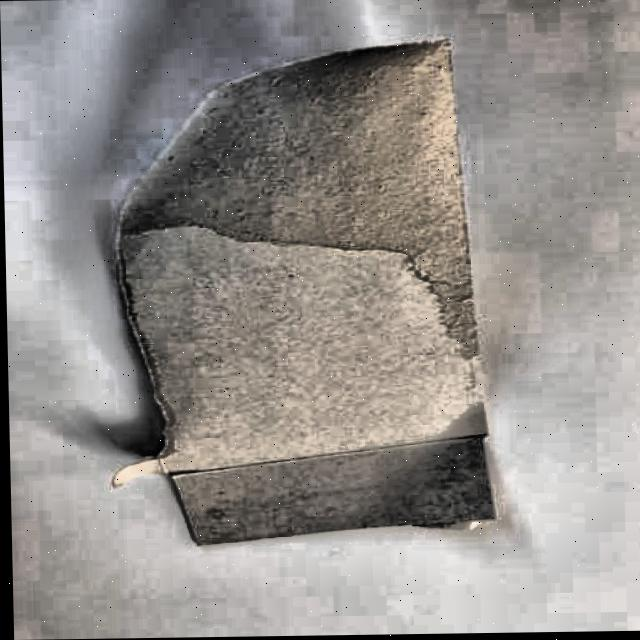paper: (101, 39, 500, 547)
